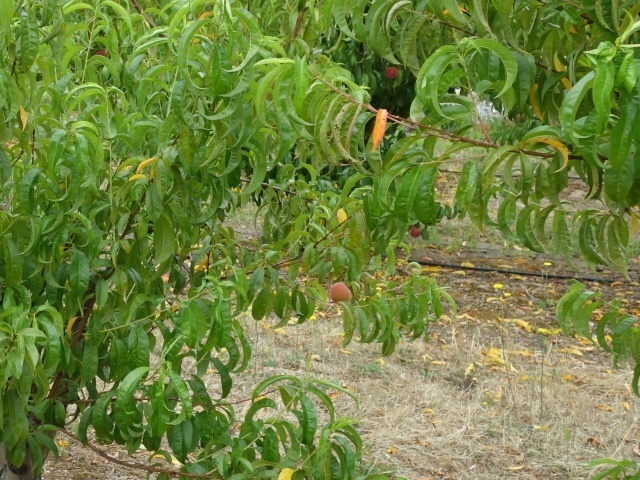peach: (326, 279, 356, 309), (382, 64, 402, 82)
